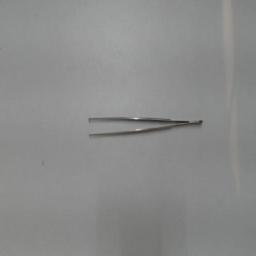Gillies Toothed Dissector: (83, 114, 205, 144)
